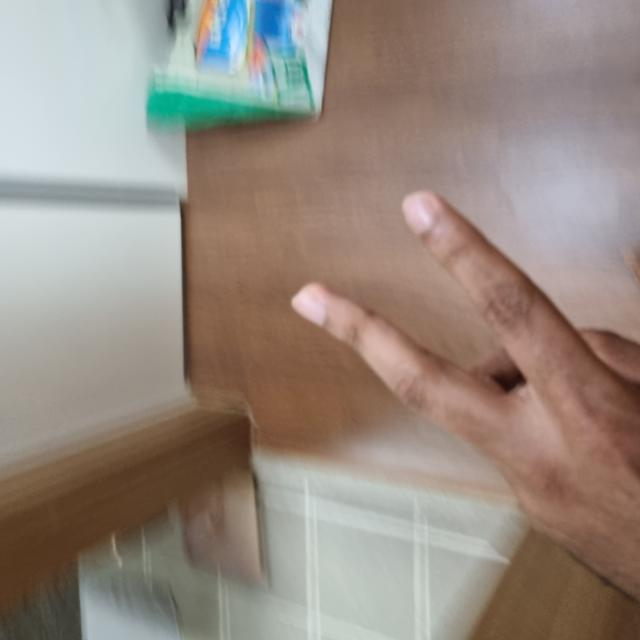Scissors: (0, 192, 640, 639)
